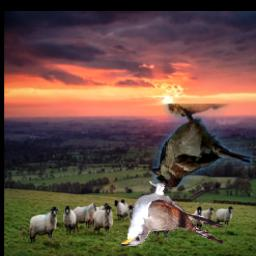Cuckoo: (121, 182, 223, 247)
Sparrow: (151, 104, 252, 187)
